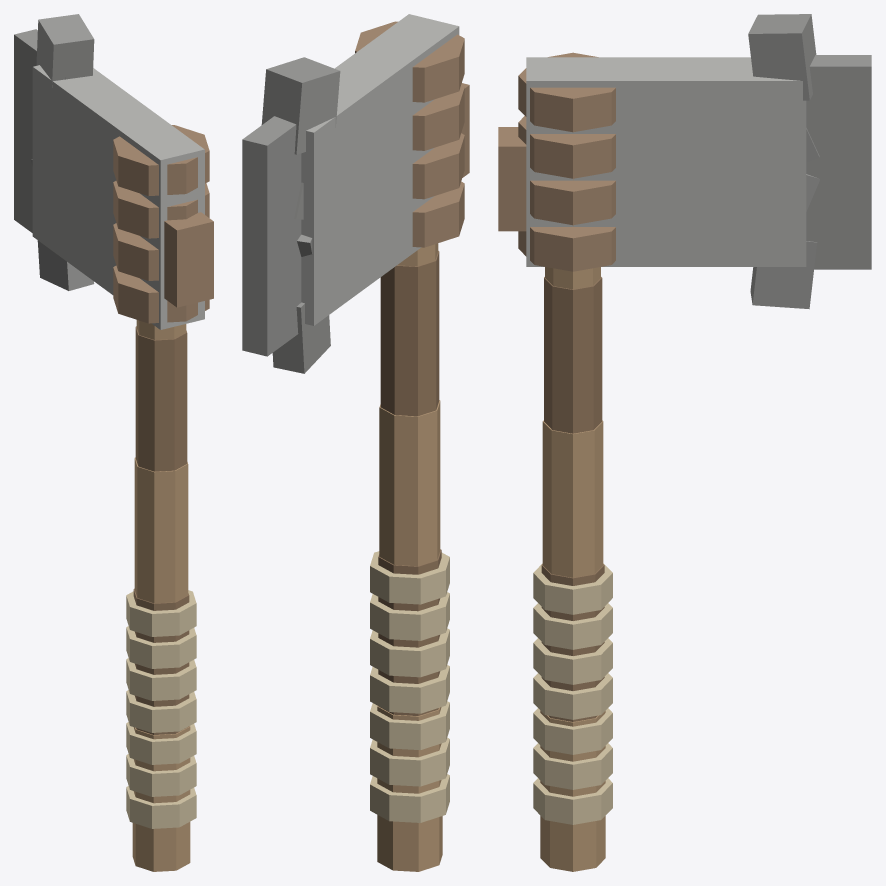
File: stone_hatchet.glb
The picture shows the model from 3 angles, left to right: view 1: azimuth 30°, elevation 25°; view 2: azimuth 150°, elevation 25°; view 3: azimuth 270°, elevation 25°; orthographic projection. The views are drawn at different scales.
Visible parts, largest first — view 1: stone_hatchet; view 2: stone_hatchet; view 3: stone_hatchet.
Boxes of the visible parts, x1=… form: stone_hatchet: x1=14, y1=14, x2=213, y2=871; stone_hatchet: x1=242, y1=14, x2=469, y2=871; stone_hatchet: x1=498, y1=14, x2=871, y2=871.
Bounding box in the file's own units: 0.1171 × 0.9898 × 0.4.
